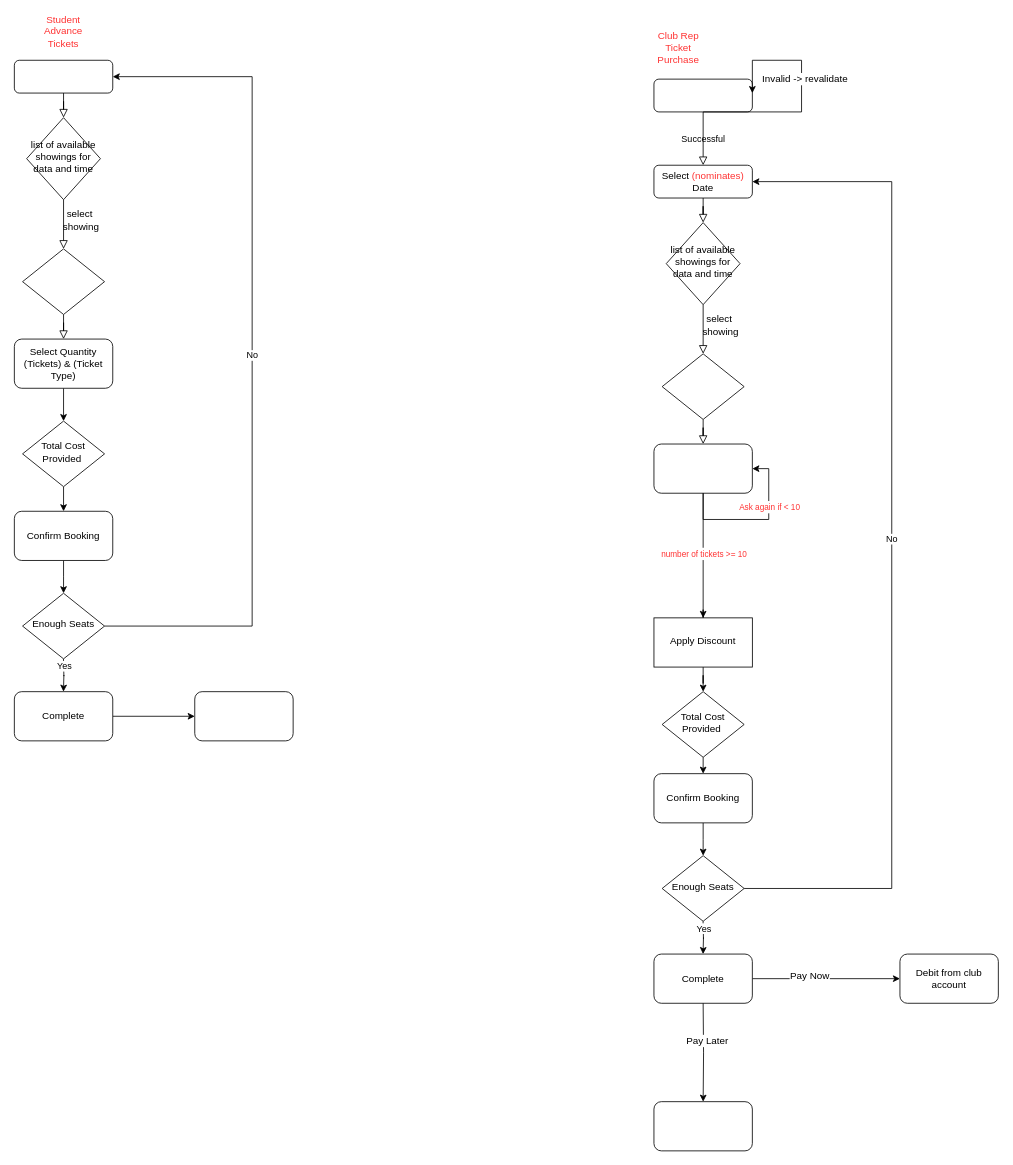
Image size: 1013x1165. Some labels were removed from this diagram. The box of each missing label's shape, as (x1, y1, x2, y2) in pixels:
Add Credit to be payed at later date in month: (653, 1101, 752, 1151)
Enter club number and password: (653, 78, 752, 112)
Select Date: (14, 59, 113, 93)
Select Quantity (Tickets): (653, 443, 752, 493)
Showing Details Provide: (22, 248, 105, 314)
Showing Details Provided: (661, 353, 744, 419)
Taken to payment (use existing system): (194, 691, 293, 741)
